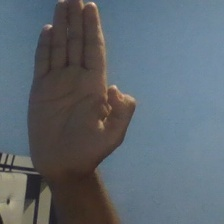B: (27, 1, 138, 190)
